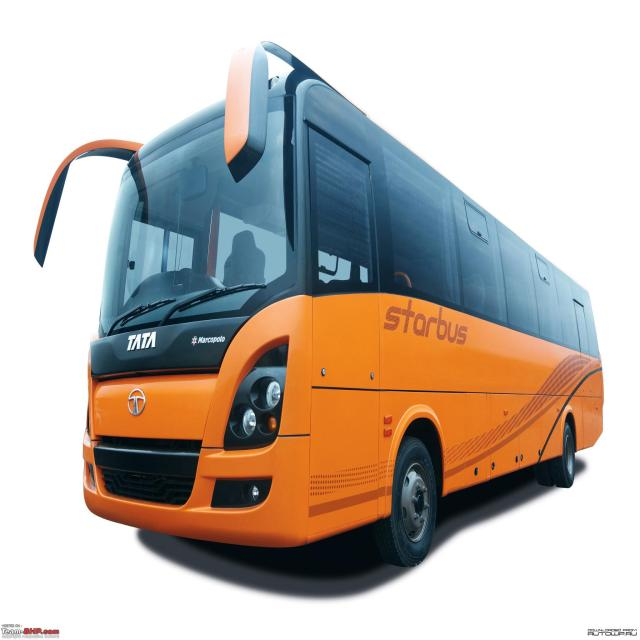bus: (34, 39, 606, 570)
